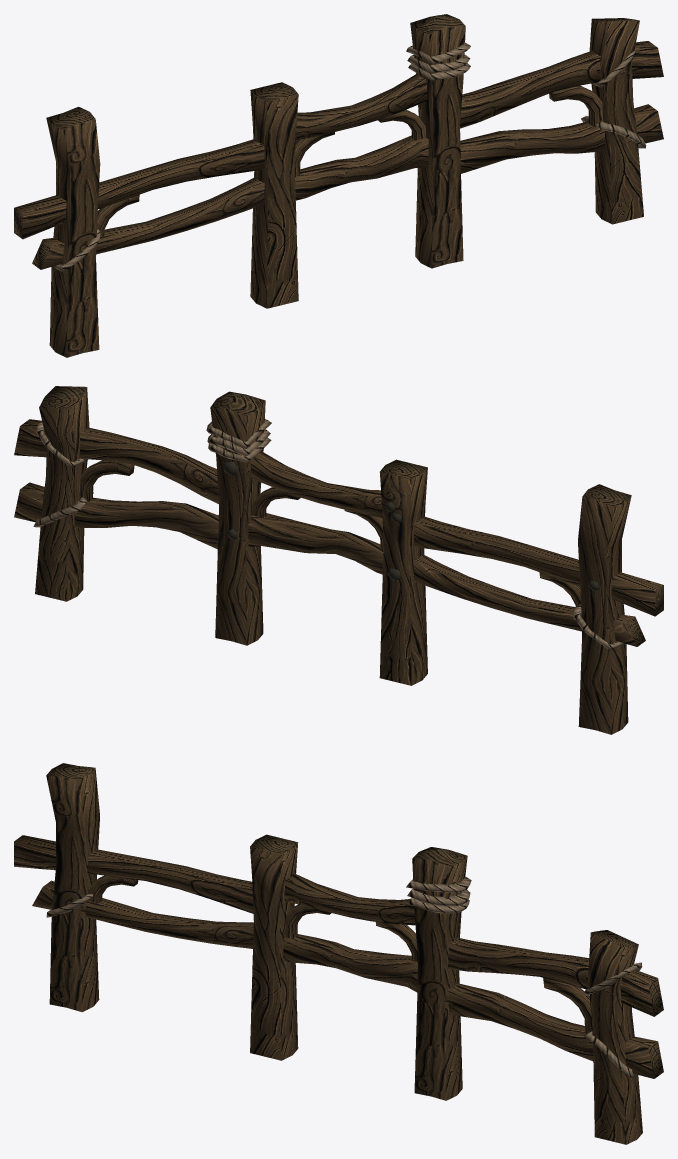
Rendered from lowLongFence.fbx.
3 views of the same model, one above another, from view 1: azimuth 30°, elevation 25°; view 2: azimuth 150°, elevation 25°; view 3: azimuth 330°, elevation 25° (orthographic).
Visible parts, largest first — view 1: node_id39; view 2: node_id39; view 3: node_id39.
Boxes of the visible parts, bbox=[...] form: node_id39: bbox=[14, 14, 663, 357]; node_id39: bbox=[14, 386, 663, 734]; node_id39: bbox=[14, 763, 663, 1144].
Size of the model in its own units: 0.512 by 0.1849 by 0.0375.
1 material, 1 textured.
